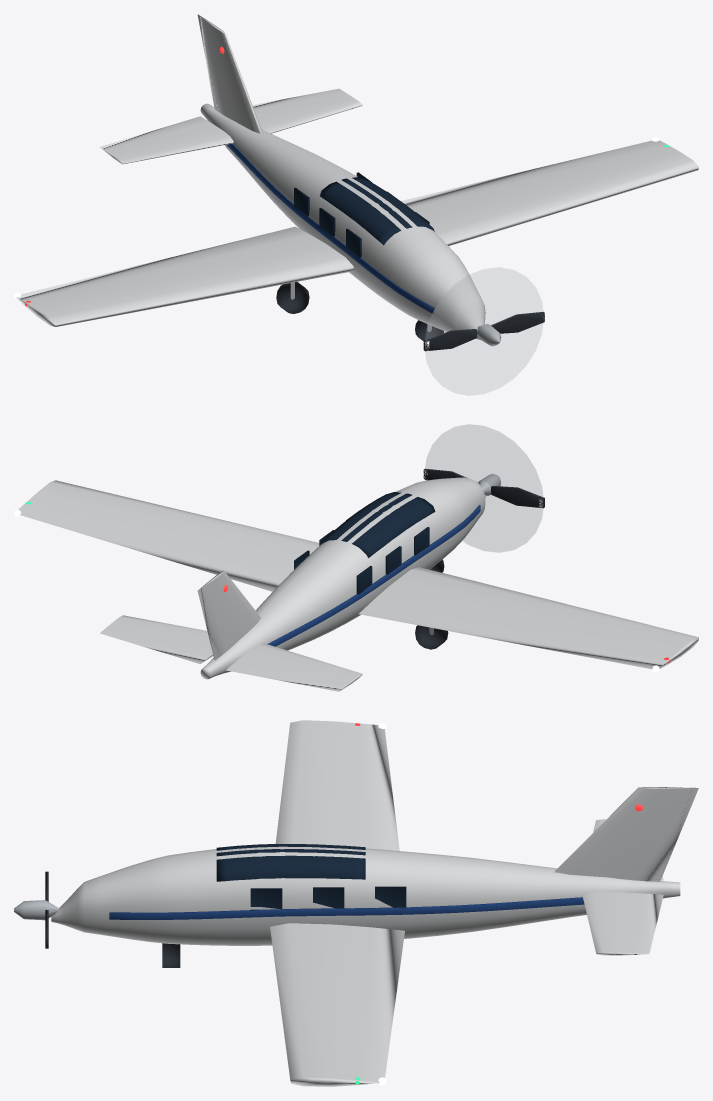
The picture shows the model from 3 angles, top to bottom: view 1: azimuth 30°, elevation 25°; view 2: azimuth 150°, elevation 25°; view 3: azimuth 270°, elevation 25°; orthographic projection. The views are drawn at different scales.
Visible parts, largest first — view 1: body, disc0, prop0, gearL_fixed; view 2: body, disc0, prop0, gearL_fixed; view 3: body, prop0.
Part boxes in pixels (<box>): body: <box>16,14,698,339</box>; disc0: <box>425,267,542,395</box>; prop0: <box>423,311,544,351</box>; gearL_fixed: <box>276,282,309,313</box>; body: <box>18,477,698,691</box>; disc0: <box>425,424,543,552</box>; prop0: <box>423,468,544,508</box>; gearL_fixed: <box>415,625,448,649</box>; body: <box>51,720,698,1086</box>; prop0: <box>14,871,59,948</box>.
Bounding box in the file's own units: 10.22 × 2.58 × 8.28.
